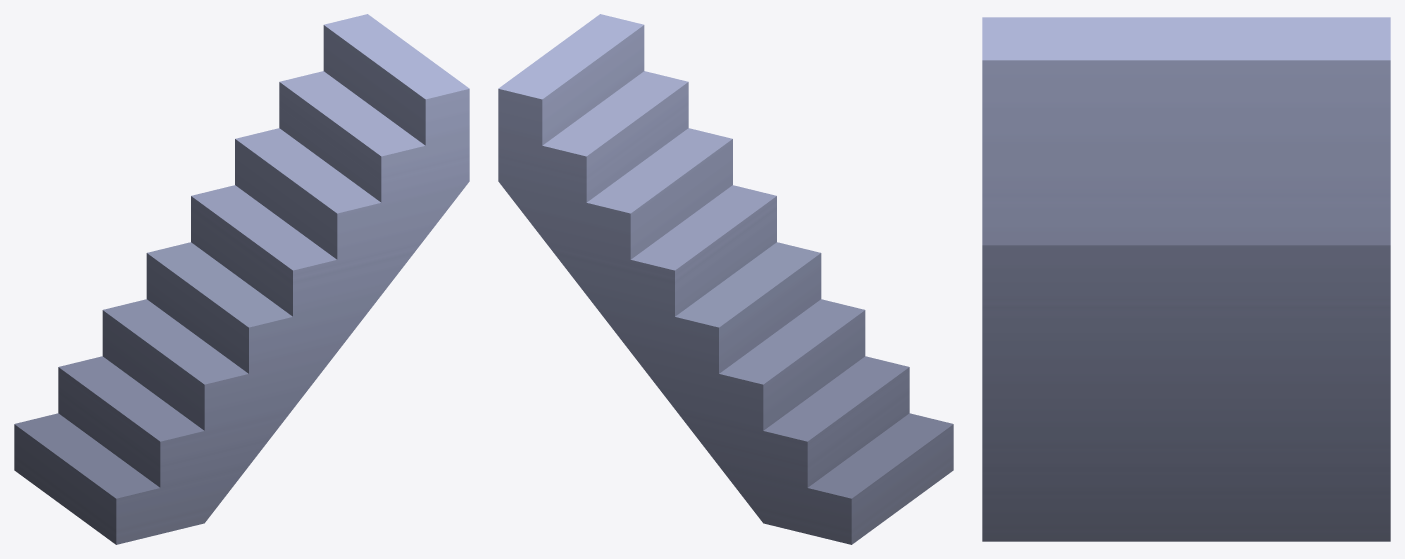
Rendered from stairs-diagonal-small-narrow.fbx.
The picture shows the model from 3 angles, left to right: view 1: azimuth 30°, elevation 25°; view 2: azimuth 150°, elevation 25°; view 3: azimuth 270°, elevation 25°; orthographic projection. The views are drawn at different scales.
Visible parts, largest first — view 1: stairs-diagonal-small-narrow; view 2: stairs-diagonal-small-narrow; view 3: stairs-diagonal-small-narrow.
Boxes of the visible parts, x1=… form: stairs-diagonal-small-narrow: x1=14, y1=14, x2=469, y2=544; stairs-diagonal-small-narrow: x1=498, y1=14, x2=953, y2=544; stairs-diagonal-small-narrow: x1=982, y1=17, x2=1390, y2=541.
Size of the model in its own units: 100 by 100 by 50.
